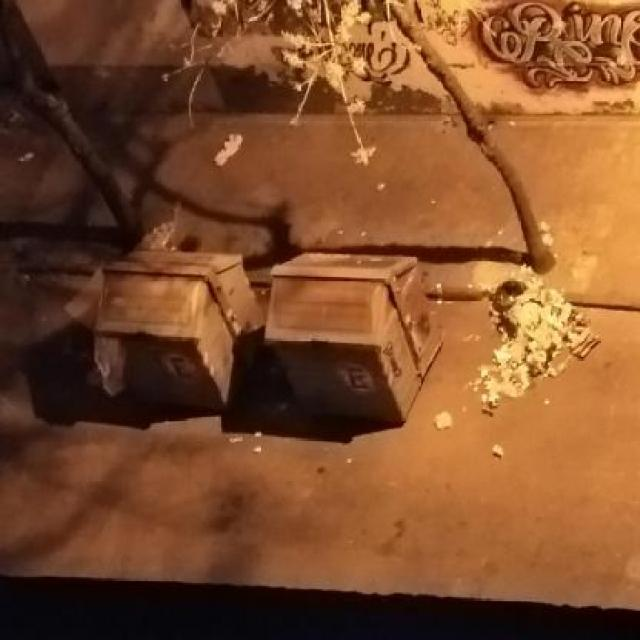garbage: (43, 216, 628, 502)
